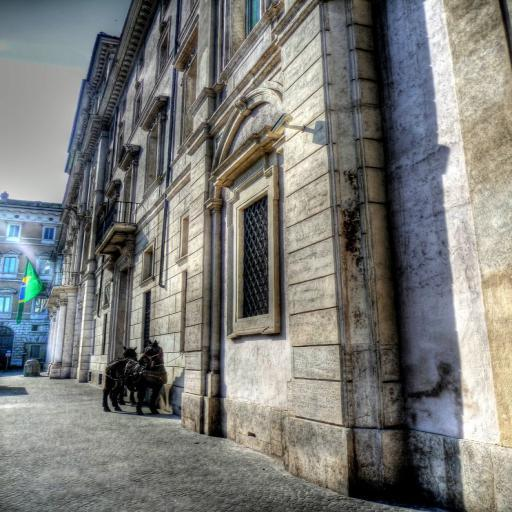horse: (102, 338, 170, 416), (108, 344, 140, 405)
